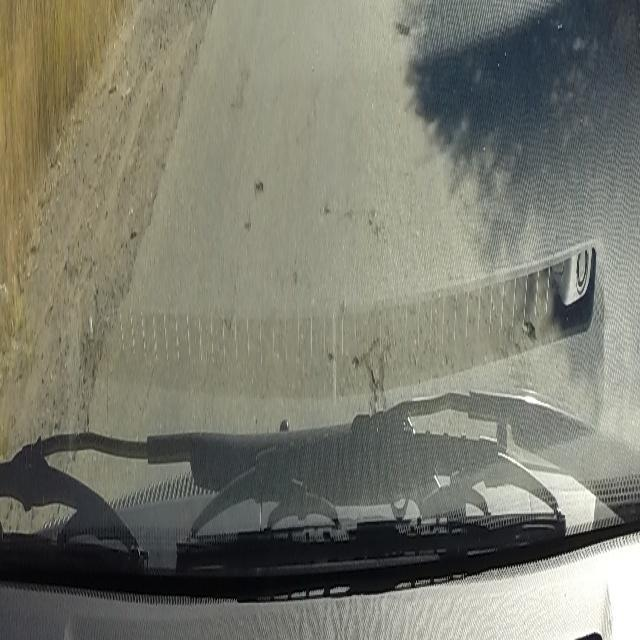pothole: (516, 313, 541, 343), (393, 16, 410, 40)
